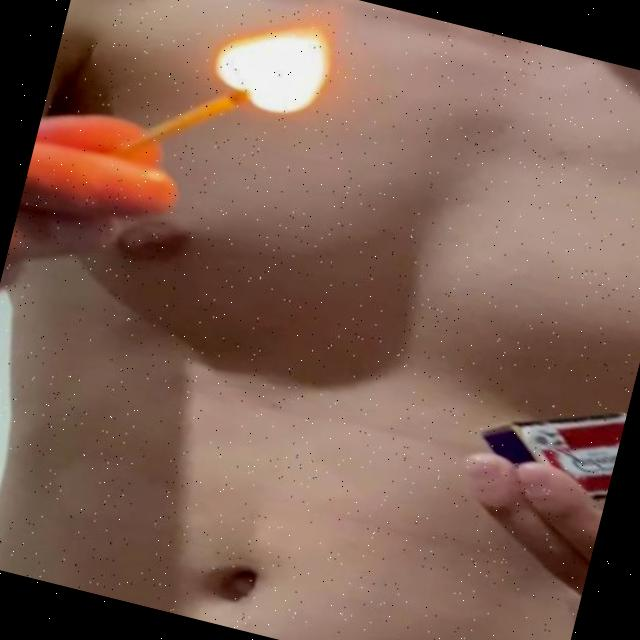fire: (185, 0, 370, 149)
